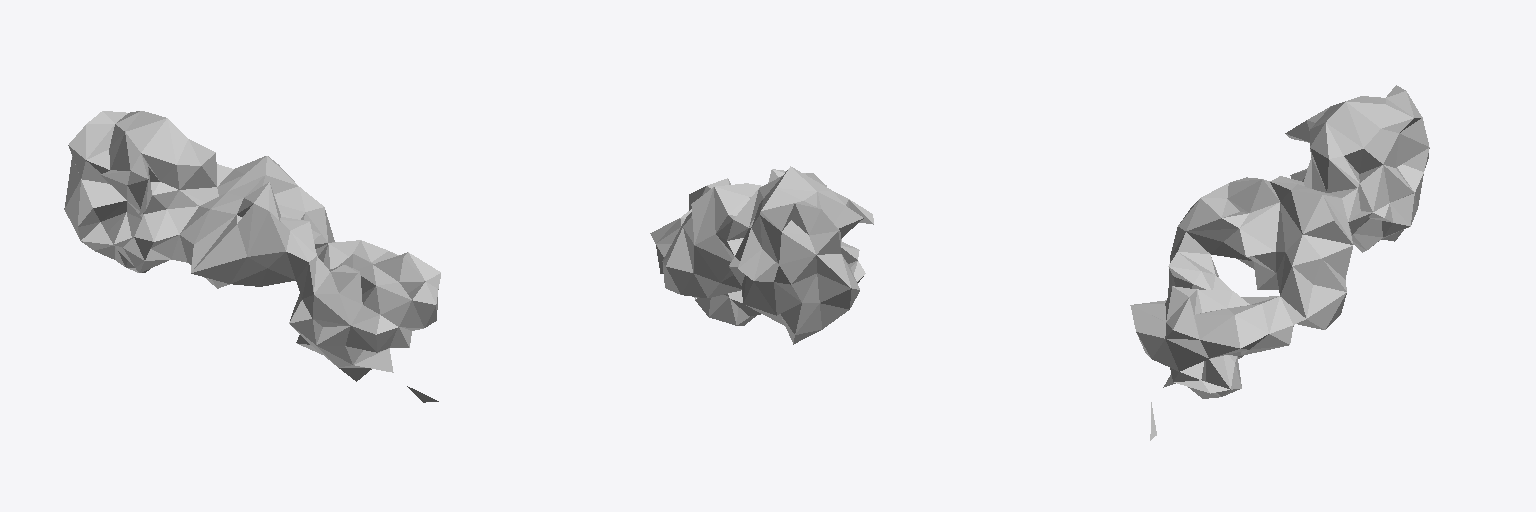
3 views of the same model, side by side, from view 1: azimuth 30°, elevation 25°; view 2: azimuth 150°, elevation 25°; view 3: azimuth 270°, elevation 25° (orthographic).
Visible parts, largest first — view 1: CoarseMS_2zch_4; view 2: CoarseMS_2zch_4; view 3: CoarseMS_2zch_4.
Boxes of the visible parts, x1=… form: CoarseMS_2zch_4: x1=64, y1=111, x2=440, y2=402; CoarseMS_2zch_4: x1=650, y1=166, x2=873, y2=344; CoarseMS_2zch_4: x1=1130, y1=85, x2=1429, y2=440.
Bounding box in the file's own units: 87.7 × 77.6 × 82.59.